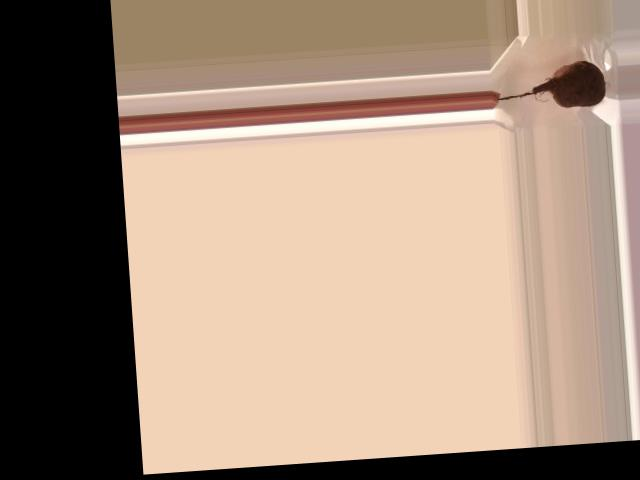beet: (494, 58, 606, 112)
